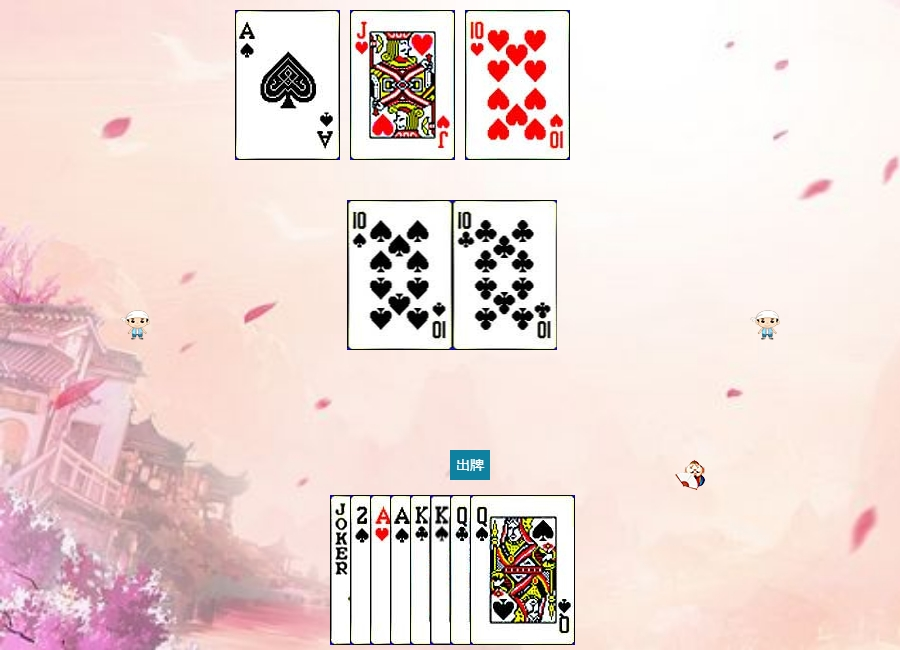10~2: (453, 200, 558, 350)
10~3: (465, 10, 570, 160)
10~4: (348, 200, 453, 350)
11~3: (350, 10, 455, 160)
12~2: (450, 495, 555, 645)
12~4: (470, 495, 575, 645)
13~2: (410, 495, 515, 645)
13~4: (430, 495, 535, 645)
14~3: (370, 495, 475, 645)
14~4: (235, 10, 340, 160), (390, 495, 495, 645)
15~4: (350, 495, 455, 645)
17~3: (330, 495, 435, 645)
